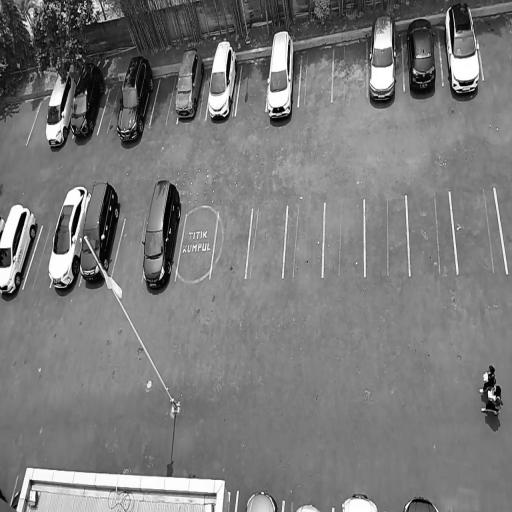Car: (140, 173, 184, 294), (44, 183, 92, 290), (77, 179, 123, 286), (441, 1, 485, 101), (115, 53, 157, 146), (68, 62, 107, 144), (266, 28, 297, 126), (43, 67, 78, 152), (207, 38, 240, 124), (368, 13, 398, 107), (404, 14, 437, 94), (173, 48, 207, 120), (340, 490, 380, 512), (402, 493, 440, 512), (244, 492, 279, 512), (294, 502, 321, 512)
Space Available: (451, 189, 506, 274), (408, 194, 456, 275), (365, 197, 408, 276), (175, 211, 218, 281), (324, 200, 363, 277), (283, 203, 323, 278), (210, 208, 252, 279), (247, 207, 286, 278), (475, 15, 512, 80), (111, 216, 148, 279), (332, 39, 367, 102), (23, 224, 56, 288), (299, 46, 333, 107), (235, 56, 268, 114), (150, 73, 178, 125), (495, 186, 511, 274), (97, 80, 123, 134), (27, 95, 51, 145)
